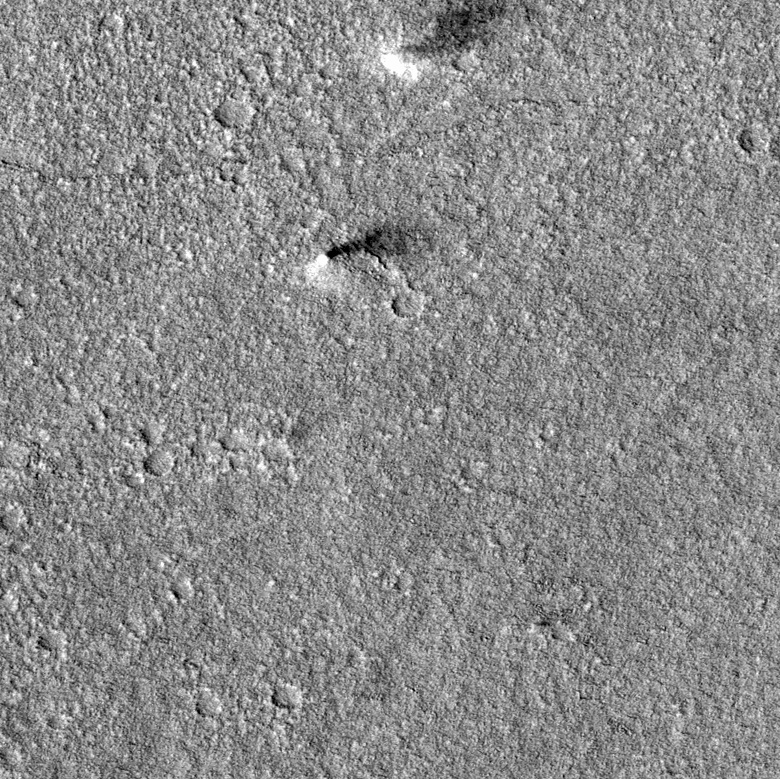dust_devil: (375, 1, 512, 84), (302, 220, 408, 278)
